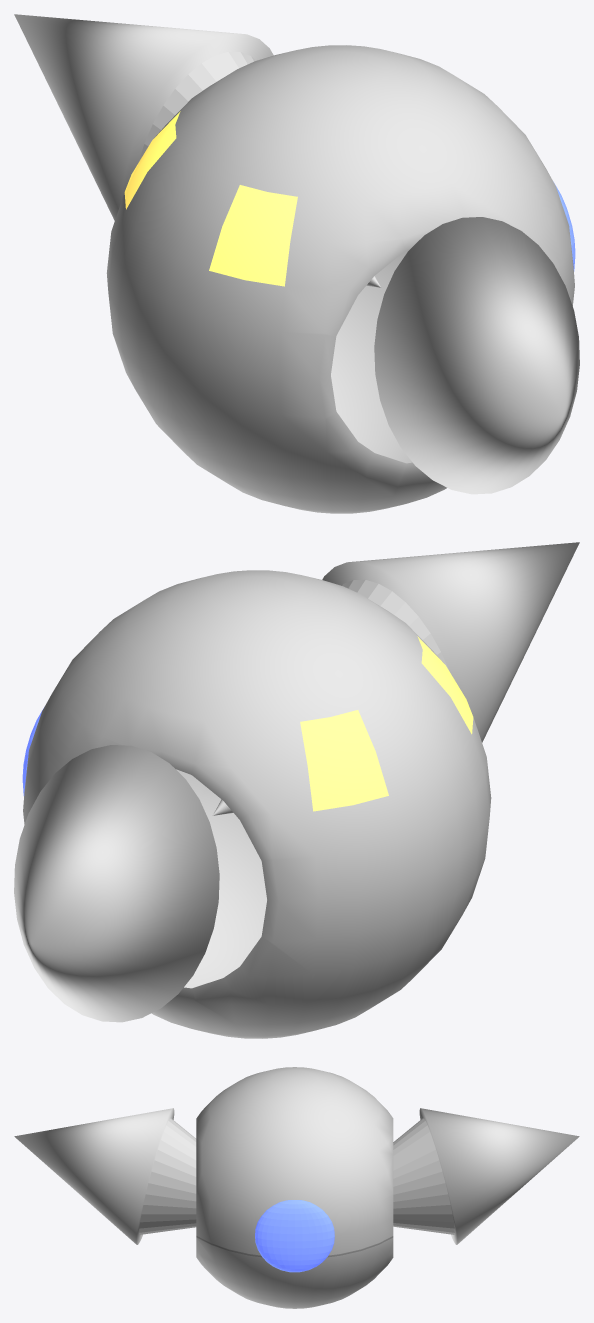
File: drone-v8.fbx
The picture shows the model from 3 angles, top to bottom: view 1: azimuth 30°, elevation 25°; view 2: azimuth 150°, elevation 25°; view 3: azimuth 270°, elevation 25°; orthographic projection. The views are drawn at different scales.
Visible parts, largest first — view 1: Sphere, Cone.001, Cone.002, Cone.003; view 2: Sphere, Cone.002, Cone.001, Cone; view 3: Sphere, Cone.002, Cone.001, Cone.003, Cone, Sphere.001.
Boxes of the visible parts, x1,y1,x2,y2 form: Sphere: [106, 45, 574, 513]; Cone.001: [374, 217, 579, 494]; Cone.002: [14, 14, 273, 220]; Cone.003: [138, 52, 380, 287]; Sphere: [23, 570, 491, 1038]; Cone.002: [14, 745, 219, 1022]; Cone.001: [322, 542, 579, 742]; Cone: [213, 579, 448, 815]; Sphere: [196, 1067, 393, 1308]; Cone.002: [419, 1108, 579, 1244]; Cone.001: [14, 1108, 174, 1244]; Cone.003: [393, 1118, 454, 1234]; Cone: [139, 1118, 196, 1234]; Sphere.001: [255, 1200, 334, 1272].
Bounding box in the file's own units: 1005 × 983 × 2299.
